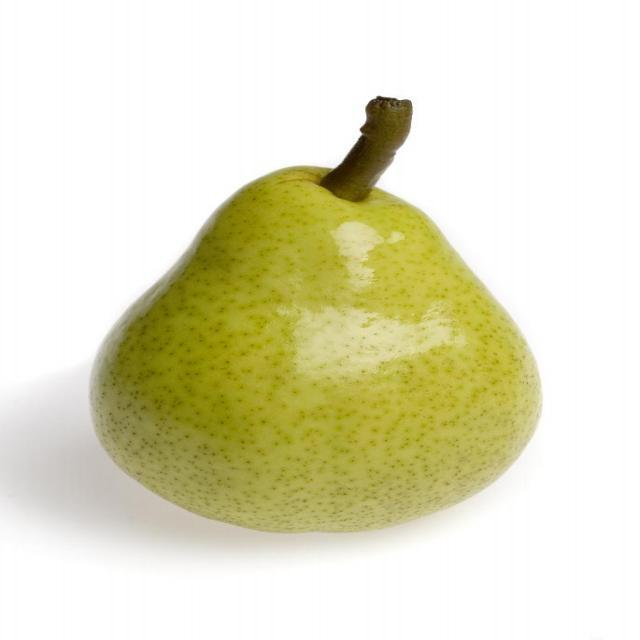Pear: (88, 165, 546, 537)
